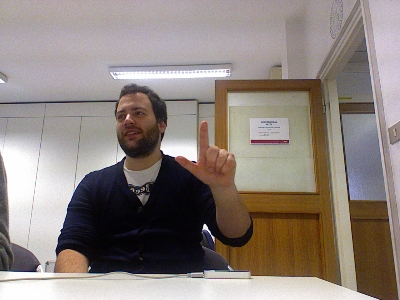枪: (173, 120, 237, 188)
